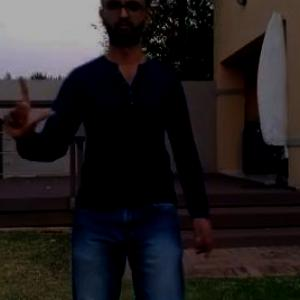land_hand: (0, 71, 60, 142)
